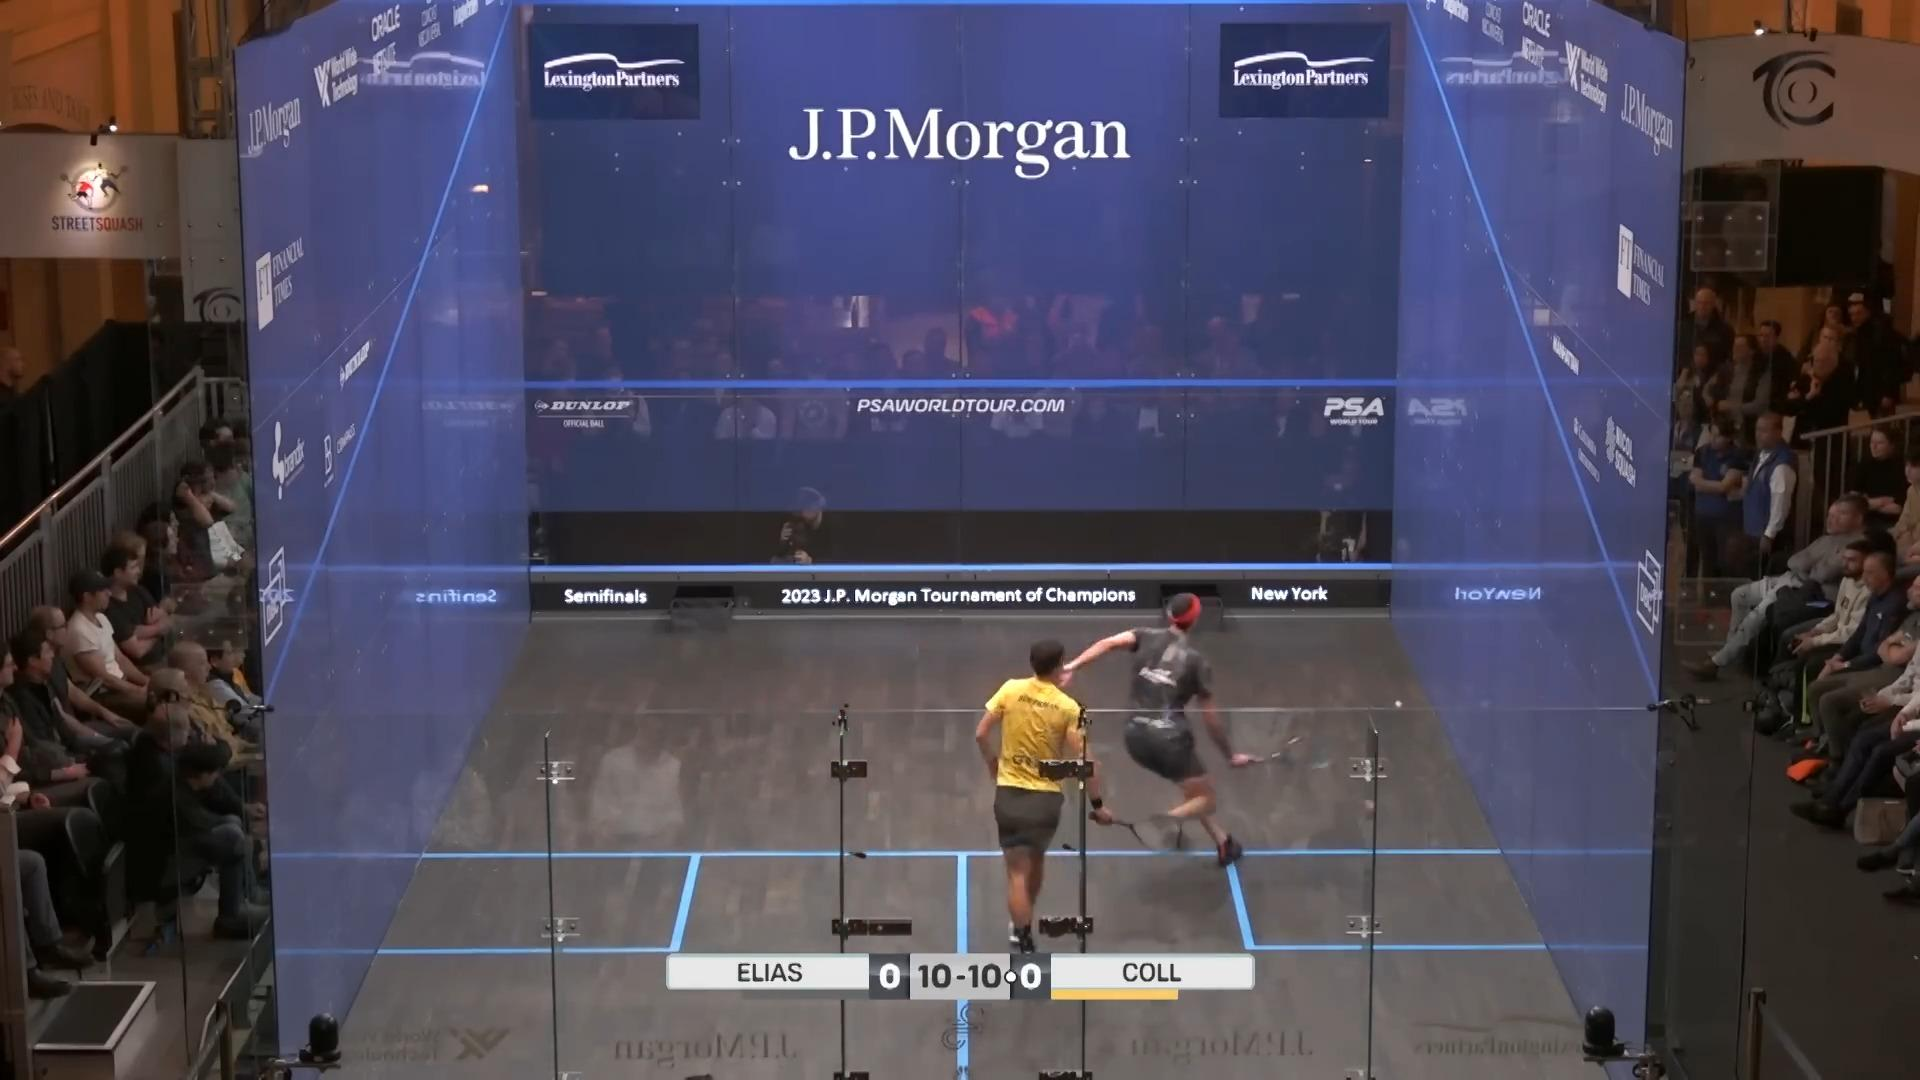Racket: (1092, 799, 1193, 857), (1245, 728, 1344, 775)
